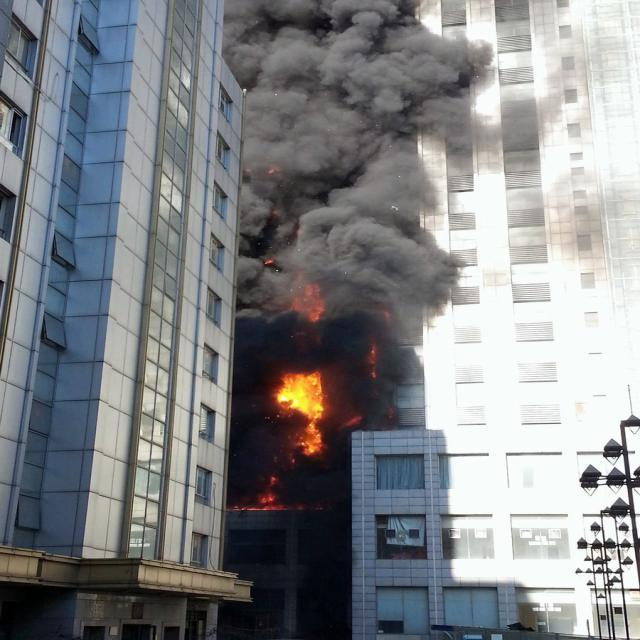Fire: (268, 366, 340, 460)
Smoke: (220, 0, 494, 364)
